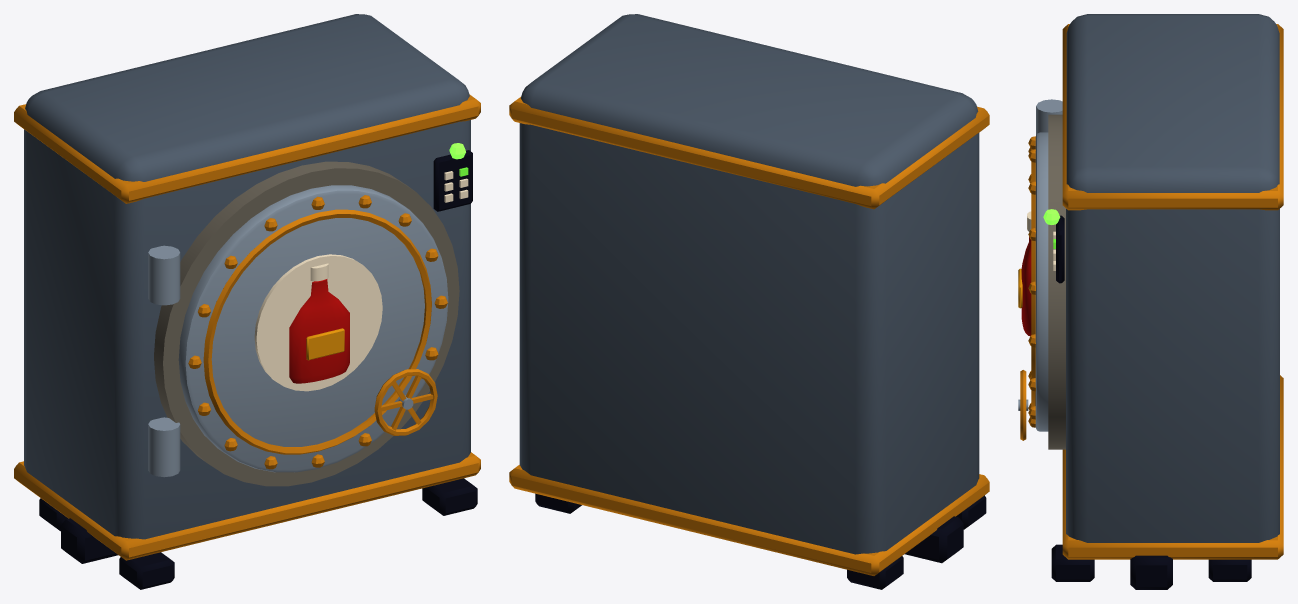
The model's file is SauceVault.fbx.
3 views of the same model, side by side, from view 1: azimuth 30°, elevation 25°; view 2: azimuth 150°, elevation 25°; view 3: azimuth 270°, elevation 25° (orthographic). The views are drawn at different scales.
Visible parts, largest first — view 1: SauceVault; view 2: SauceVault; view 3: SauceVault.
Boxes of the visible parts, left/top/right/bottom form: SauceVault: left=14, top=14, right=480, bottom=589; SauceVault: left=509, top=14, right=989, bottom=589; SauceVault: left=1018, top=14, right=1283, bottom=589.
Bounding box in the file's own units: 6 × 6.36 × 3.72.
